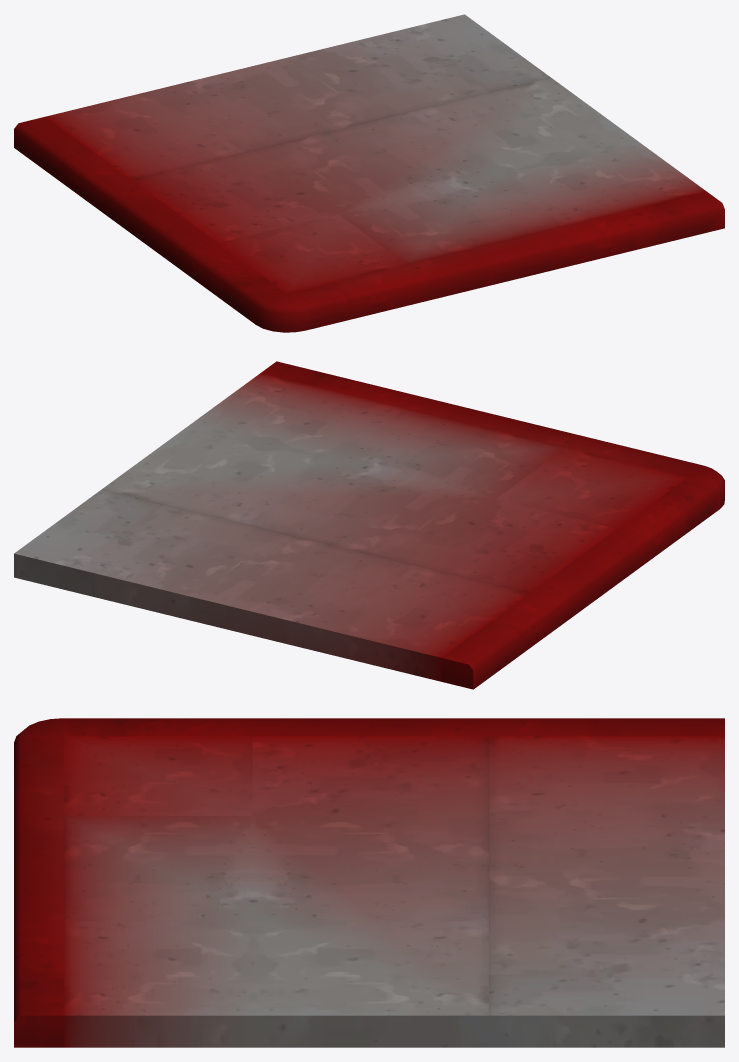
Rendered from Sidewalk_Corner_Flat_3m.glb.
3 views of the same model, one above another, from view 1: azimuth 30°, elevation 25°; view 2: azimuth 150°, elevation 25°; view 3: azimuth 270°, elevation 25° (orthographic). The views are drawn at different scales.
Parts seen in each view (by area): view 1: Sidewalk_Corner_Flat_3m; view 2: Sidewalk_Corner_Flat_3m; view 3: Sidewalk_Corner_Flat_3m.
Part boxes in pixels (x1,y1,x2,y2): Sidewalk_Corner_Flat_3m: [14, 14, 724, 332]; Sidewalk_Corner_Flat_3m: [14, 361, 724, 689]; Sidewalk_Corner_Flat_3m: [14, 718, 724, 1047].
Size of the model in its own units: 3.01 by 0.1499 by 3.01.
Materials: 1 (1 with a texture image).
